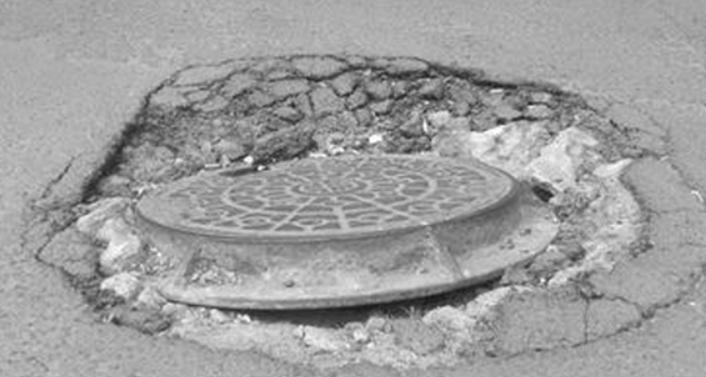wellcover: (60, 106, 591, 338)
